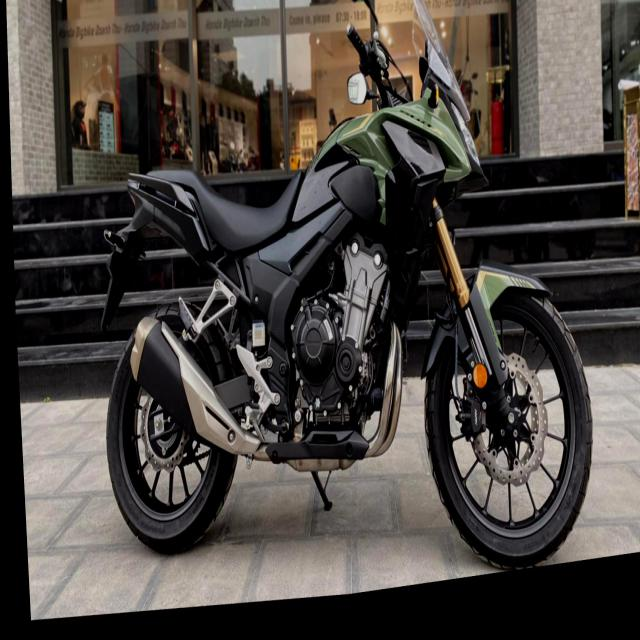CB500X: (79, 0, 603, 631)
